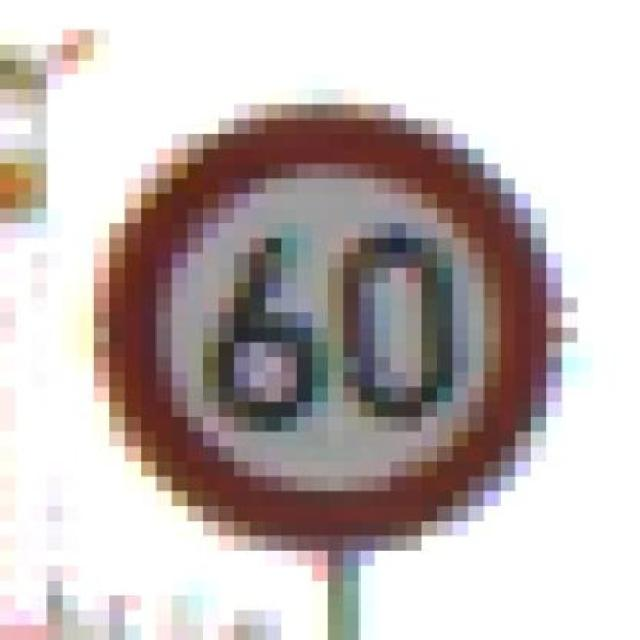forb_speed_over_60: (108, 110, 540, 528)
